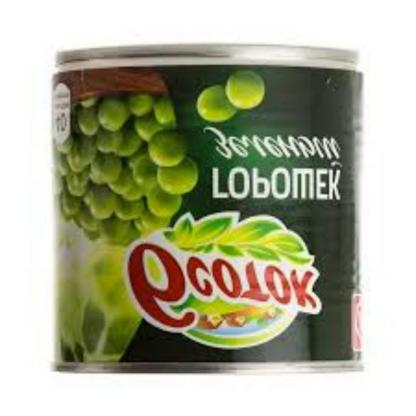peas: (59, 84, 171, 255), (196, 66, 267, 126), (159, 157, 205, 199)
